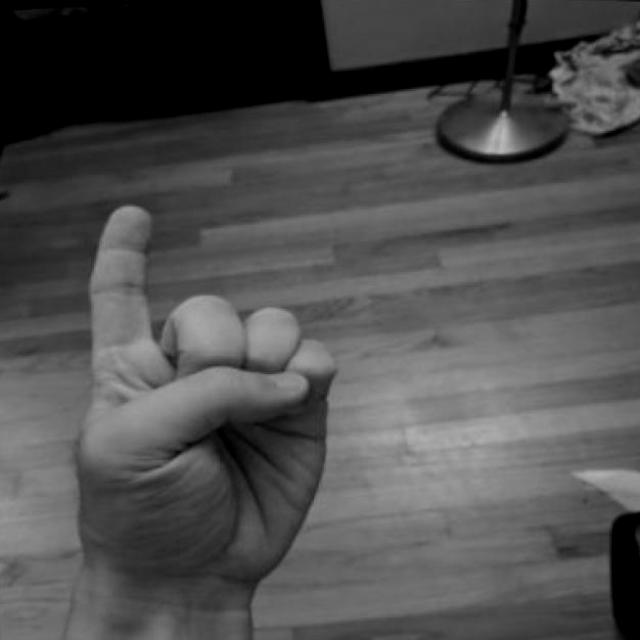D: (46, 190, 347, 620)
